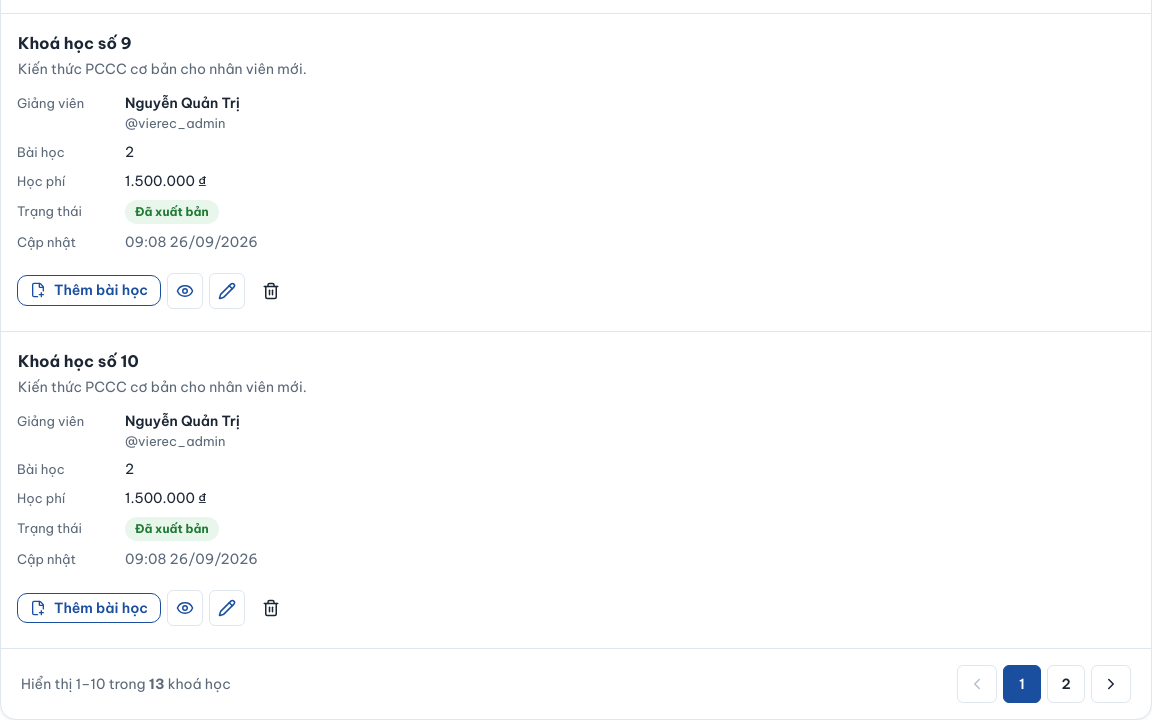
Scenario: CoursesPage › pages through the list and keeps the page in the URL
The width and height of the screenshot is (1152, 720).
(page scrolled)
Expected: the text "Hiển thị 1–10 trong 13 khoá học" is shown, [21,674,231,694]
Expected: the button named "Trang trước" is disabled, [957,665,997,703]
Click the button named "Trang 2": click(1066, 684) [1047,665,1085,703]
(page scrolled)
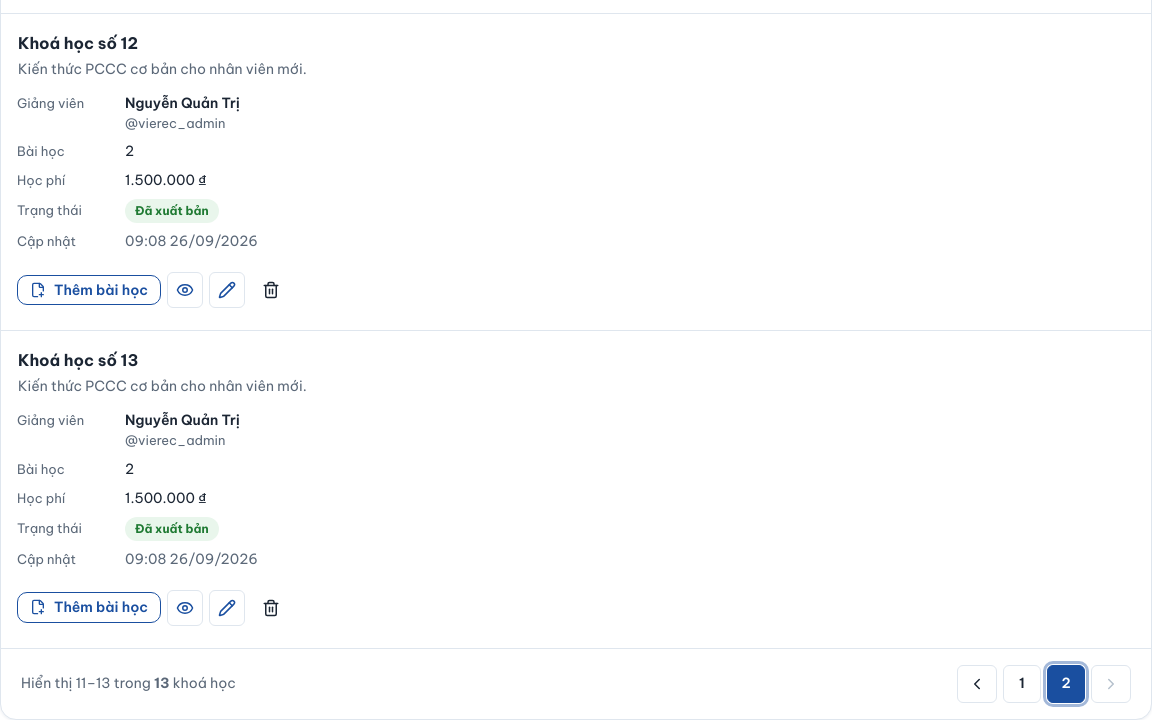
Expected: the text "Hiển thị 11–13 trong 13 khoá học" is shown, [21,673,236,694]
